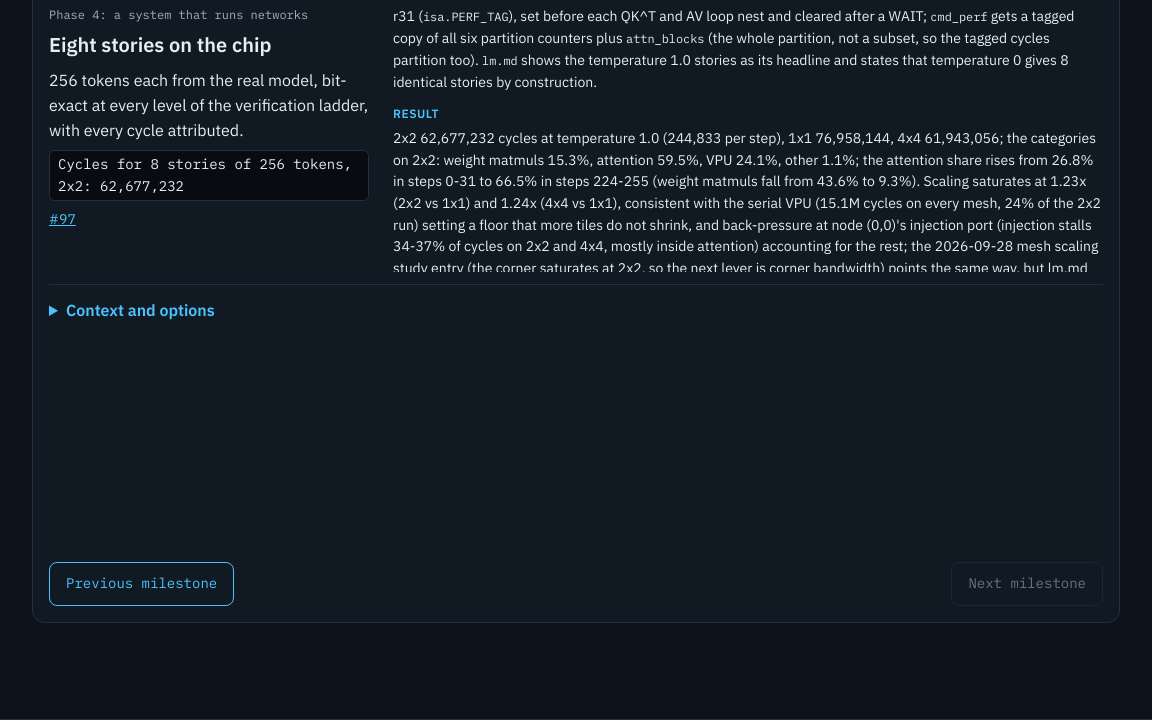
BuiltSection › steps with Previous and Next, and stops at the ends
(page scrolled)
Check: the button "Next milestone" is disabled, box 951,562 -> 1103,606
Click the button "Previous milestone" at (142,584), box 49,562 -> 234,606
(page scrolled)
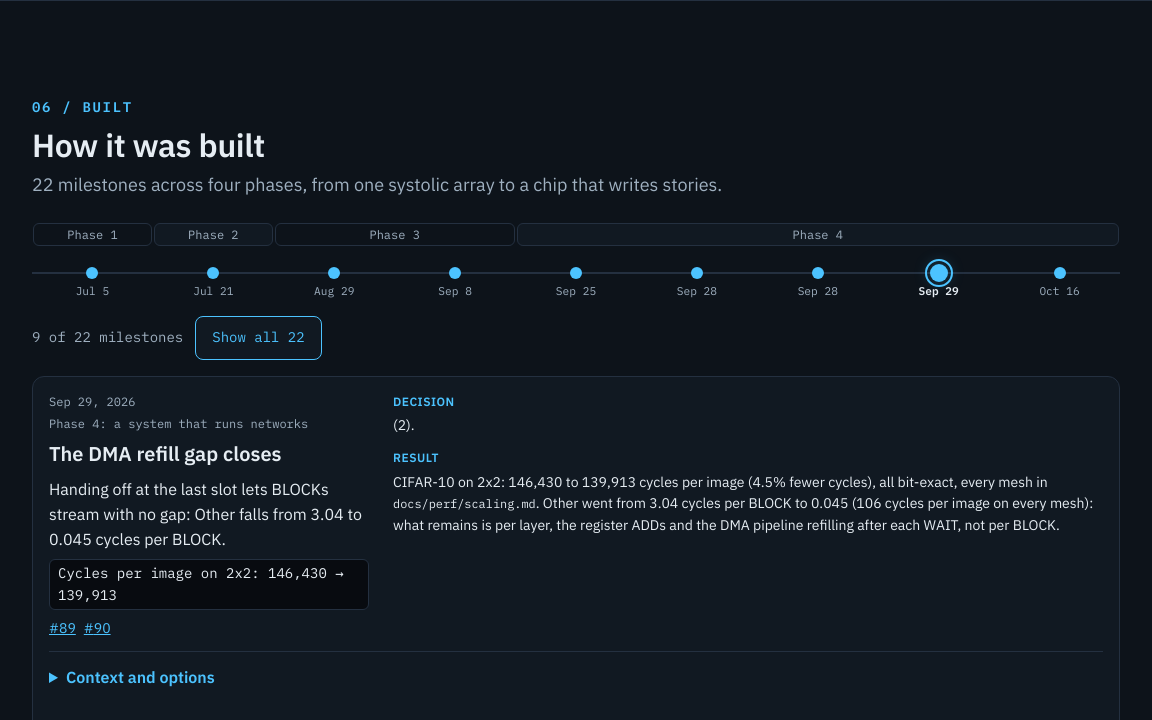
Click the button "Jul 5" at (92,277), box 32,254 -> 153,300
(page scrolled)
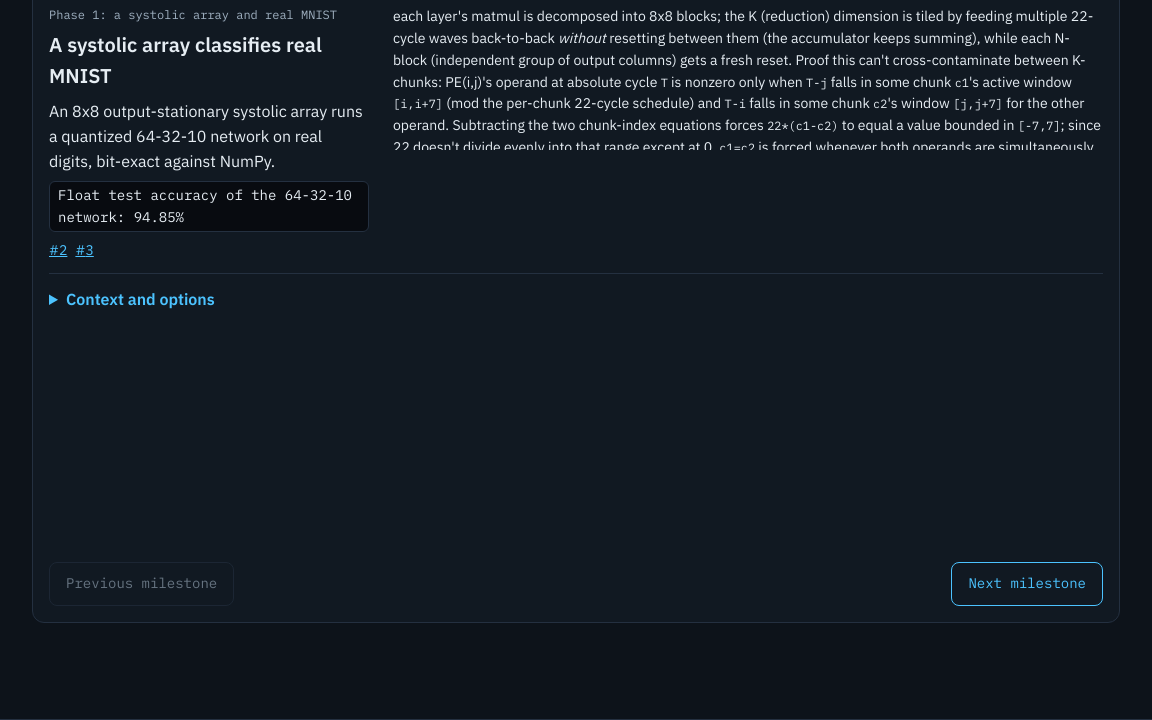
Check: the button "Previous milestone" is disabled, box 49,562 -> 234,606
